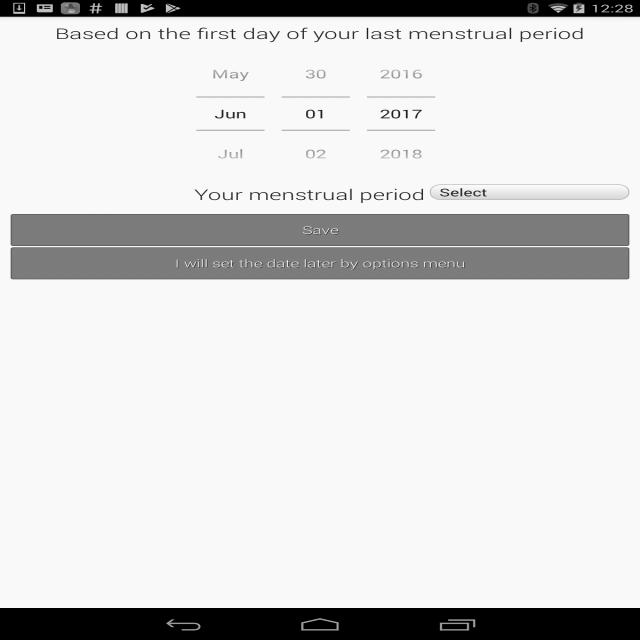Button: (11, 214, 629, 246), (11, 248, 629, 280), (196, 54, 265, 98), (196, 130, 265, 174), (281, 54, 350, 98), (281, 130, 350, 174), (367, 54, 435, 98), (367, 130, 435, 174)
EditText: (196, 98, 265, 130), (281, 98, 350, 130), (367, 98, 435, 130)
Spinner: (430, 184, 629, 200)
TextView: (55, 23, 585, 43), (11, 184, 424, 204), (431, 185, 628, 199)
